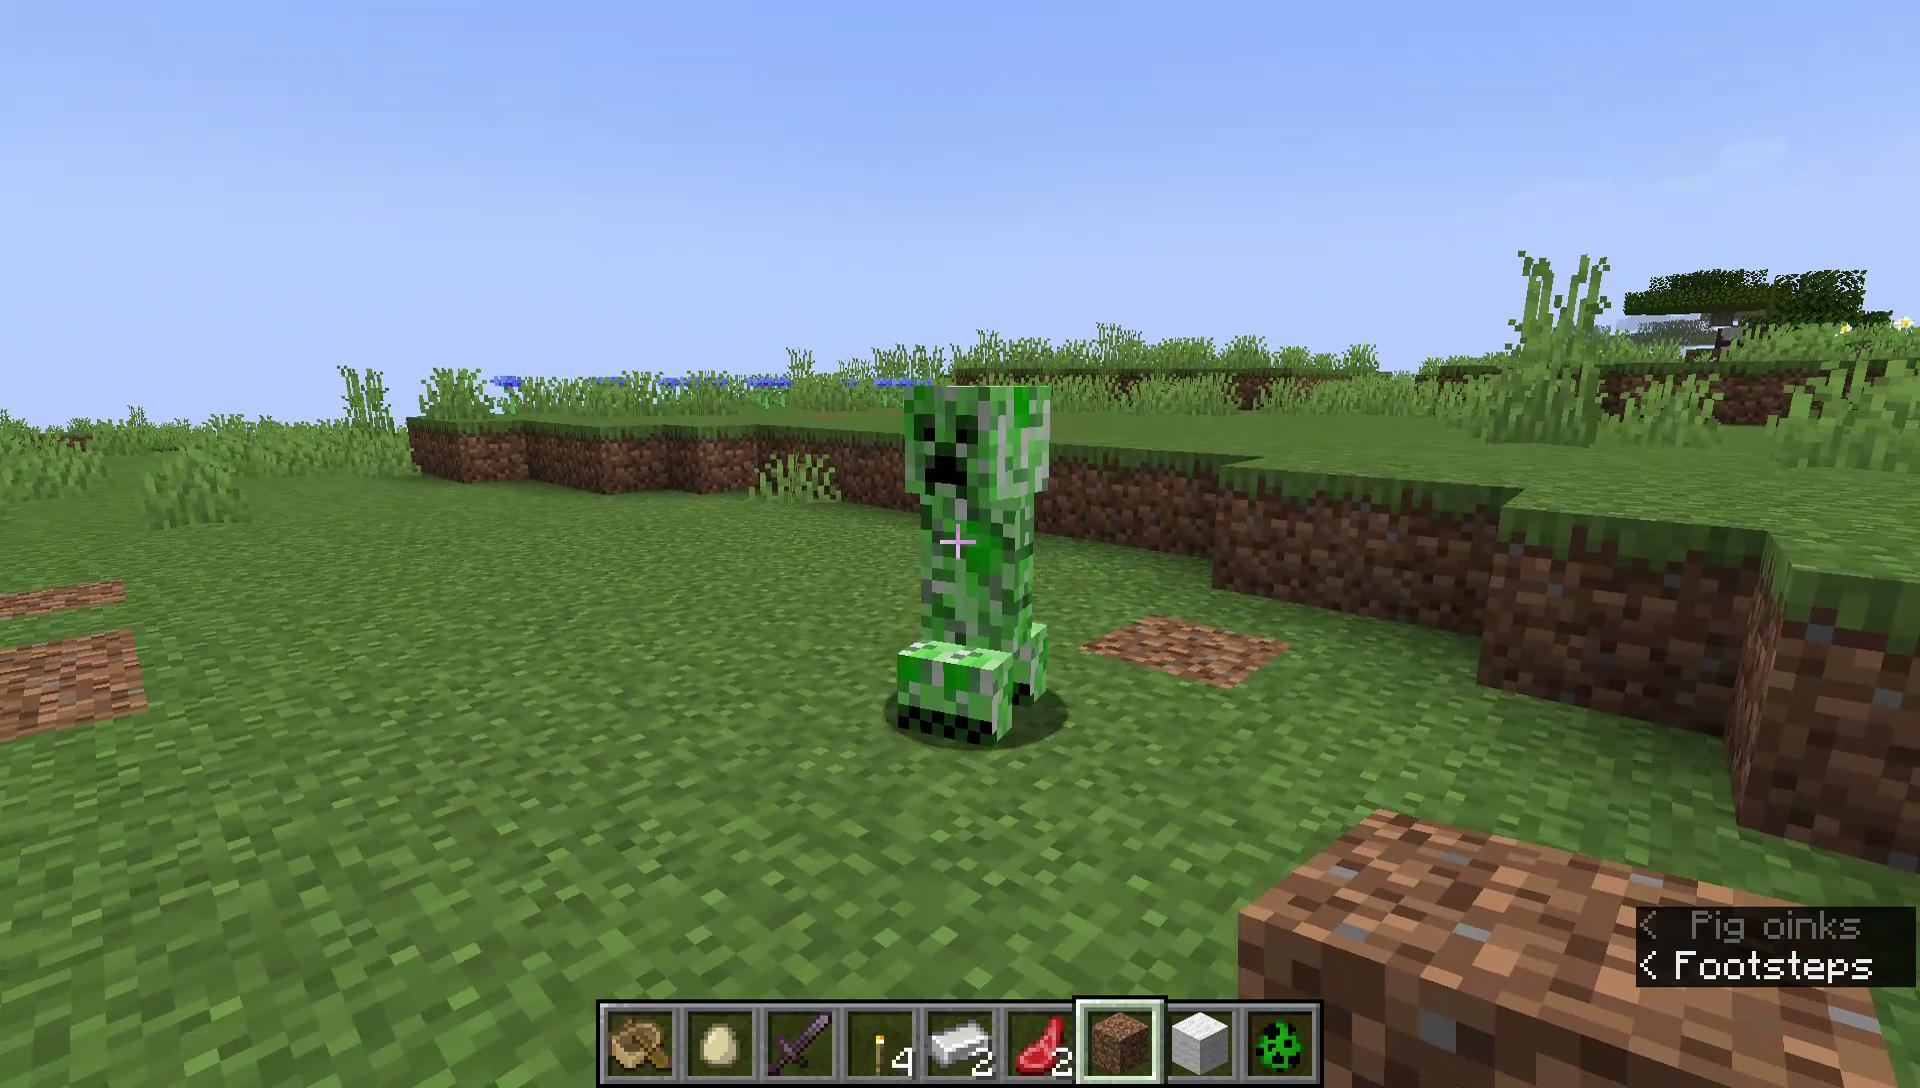cow: (1712, 323, 1747, 367)
creeper: (891, 375, 1055, 753)
